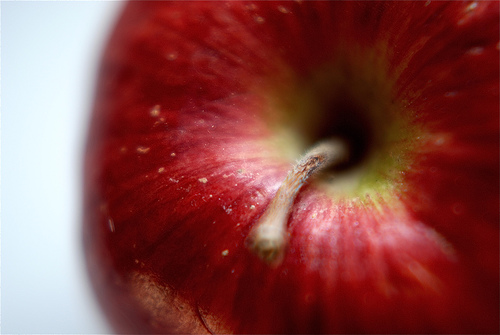apple: (81, 0, 499, 334)
